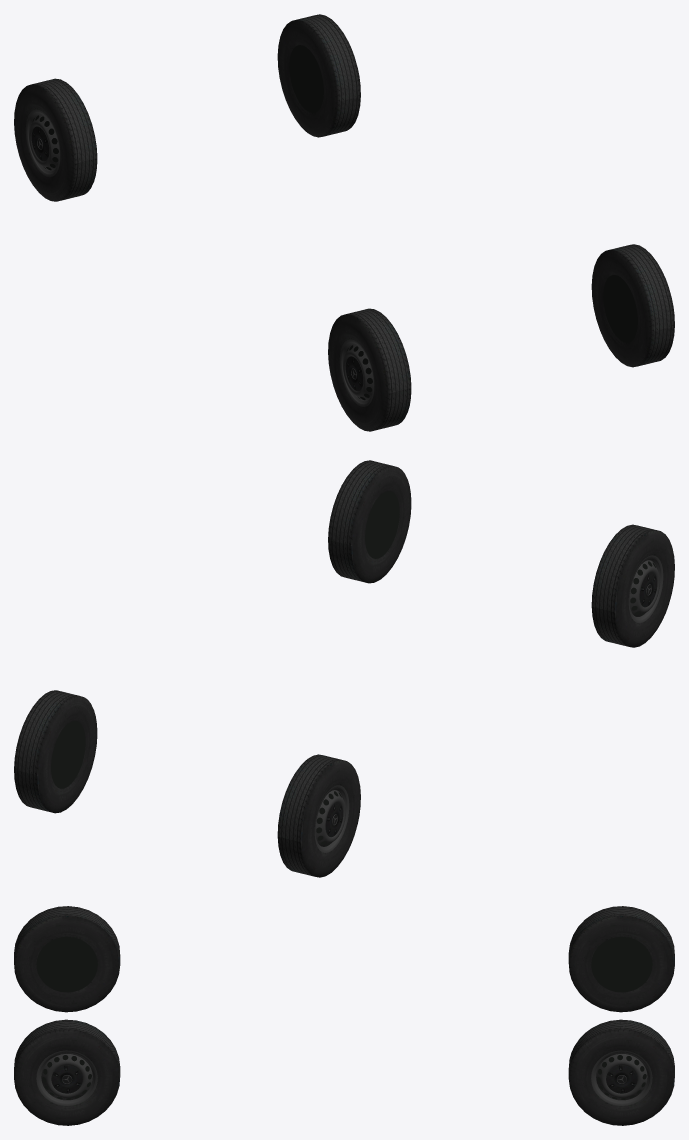
Rendered from tires ambulance2.fbx.
3 renders of one model, top to bottom at view 1: azimuth 30°, elevation 25°; view 2: azimuth 150°, elevation 25°; view 3: azimuth 270°, elevation 25°, orthographic. The views are drawn at different scales.
Parts seen in each view (by area): view 1: wheels, wheels.003, wheels.002, wheels.001; view 2: wheels.001, wheels.002, wheels.003, wheels; view 3: wheels.002, wheels.003, wheels, wheels.001.
Boxes of the visible parts, left/top/right/bottom form: wheels: left=328, top=308, right=411, bottom=431; wheels.003: left=14, top=78, right=97, bottom=201; wheels.002: left=277, top=14, right=360, bottom=137; wheels.001: left=591, top=244, right=674, bottom=367; wheels.001: left=328, top=460, right=411, bottom=583; wheels.002: left=14, top=690, right=97, bottom=813; wheels.003: left=277, top=754, right=360, bottom=877; wheels: left=591, top=524, right=674, bottom=647; wheels.002: left=568, top=1019, right=674, bottom=1125; wheels.003: left=568, top=906, right=674, bottom=1012; wheels: left=14, top=906, right=120, bottom=1012; wheels.001: left=14, top=1019, right=120, bottom=1125.
Size of the model in its own units: 1187 by 417 by 2596.
